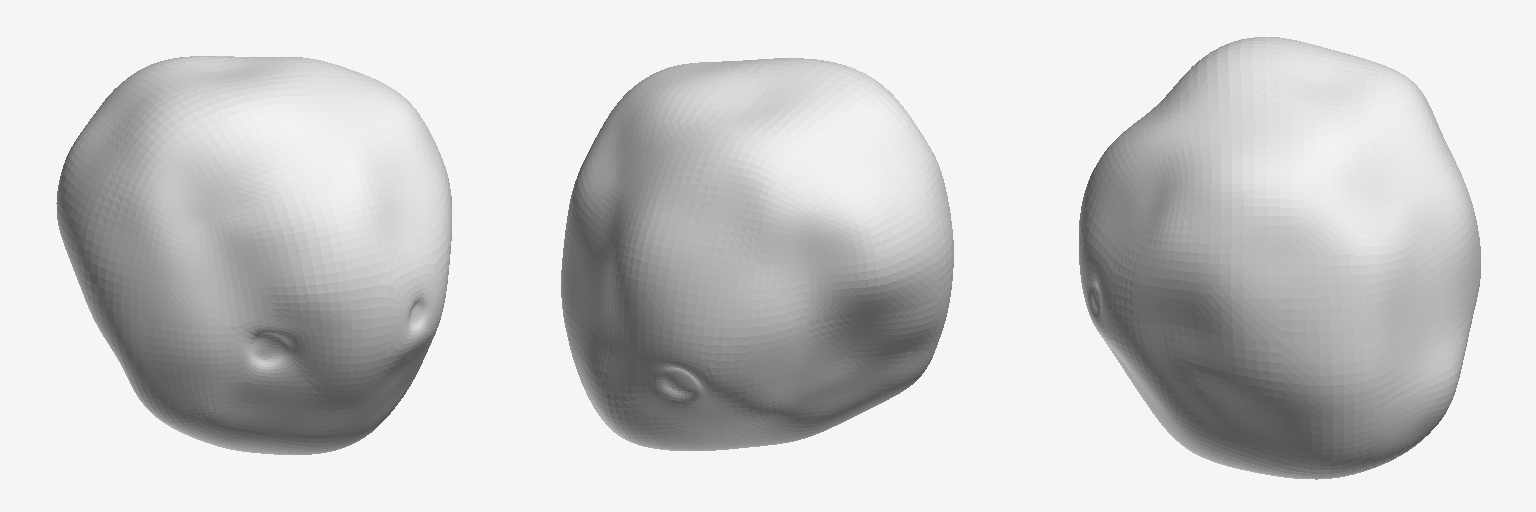
The model's file is asteroid1.obj.
3 renders of one model, left to right at view 1: azimuth 30°, elevation 25°; view 2: azimuth 150°, elevation 25°; view 3: azimuth 270°, elevation 25°, orthographic.
Parts seen in each view (by area): view 1: 10464_Asteroid_v1; view 2: 10464_Asteroid_v1; view 3: 10464_Asteroid_v1.
Part boxes in pixels (bbox=[...]): 10464_Asteroid_v1: bbox=[56, 56, 451, 454]; 10464_Asteroid_v1: bbox=[561, 58, 953, 450]; 10464_Asteroid_v1: bbox=[1079, 37, 1480, 479].
Size of the model in its own units: 1365 by 1383 by 1377.